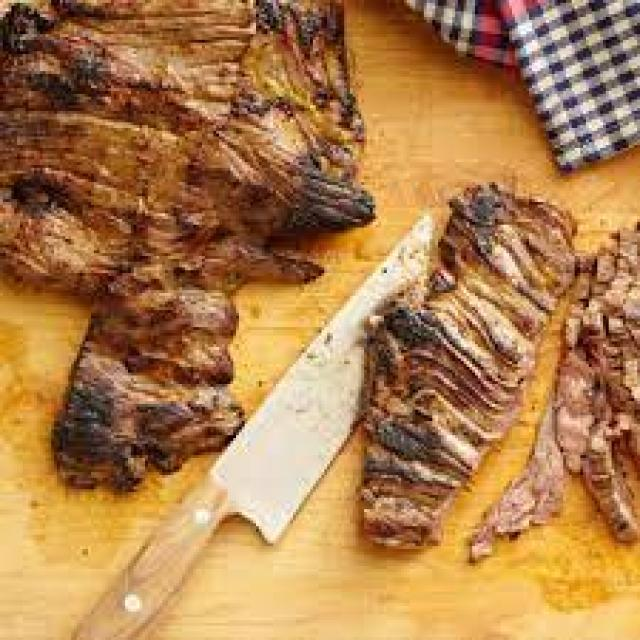Carne: (0, 0, 375, 492)
